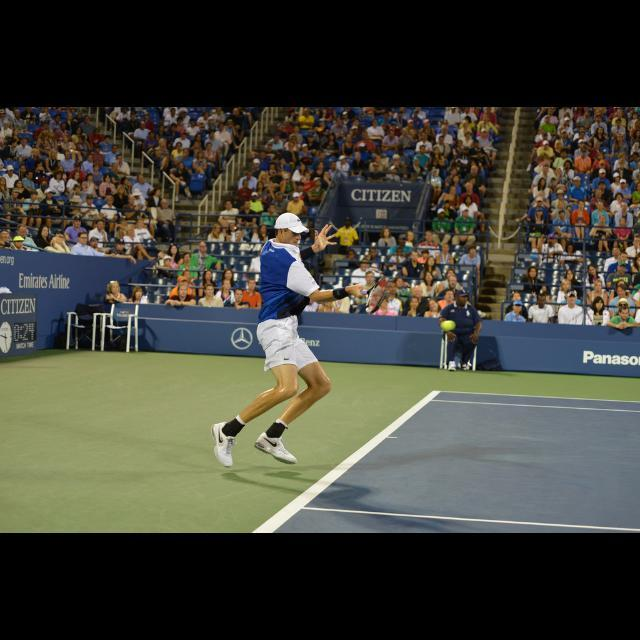tennis ball: (440, 318, 456, 332)
